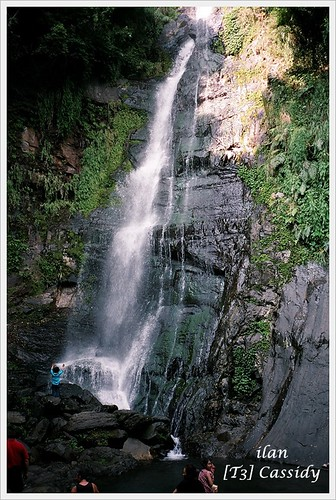wufengciWaterfall: (61, 13, 214, 407)
